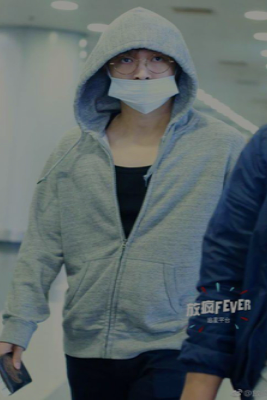mask_weared_incorrect: (104, 50, 179, 114)
